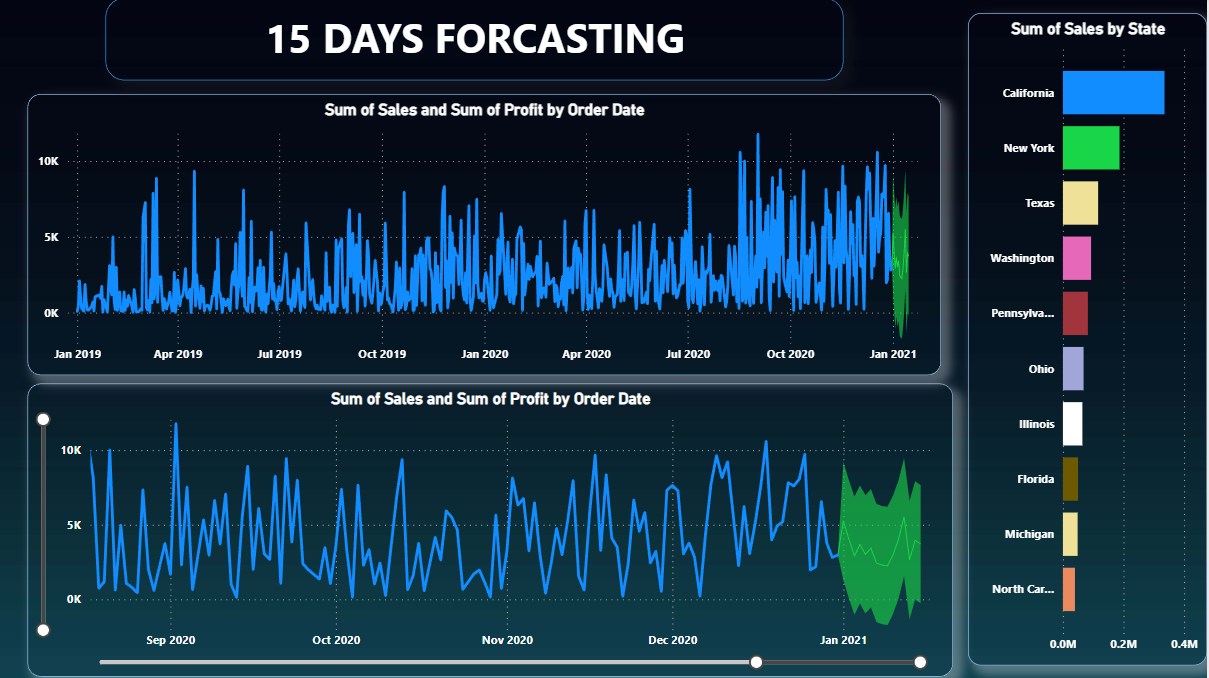

The page's visual inventory and layout, read from the dashboard file:
{"tool":"powerbi","page":{"name":"FORCASTING","canvas":[1280,720],"ordinal":1},"visuals":[{"type":"lineChart","fields":{"Y":["Sum(SuperStore_Sales_Dataset.Sales)"],"Category":["SuperStore_Sales_Dataset.Order Date"]},"box":[30.4,408.9,980.4,310.7],"z":0},{"type":"lineChart","fields":{"Y":["Sum(SuperStore_Sales_Dataset.Sales)"],"Category":["SuperStore_Sales_Dataset.Order Date"]},"box":[30.4,101.8,967.9,298.2],"z":1},{"type":"clusteredBarChart","fields":{"Y":["Sum(SuperStore_Sales_Dataset.Sales)"],"Category":["SuperStore_Sales_Dataset.State"]},"box":[1026.8,16.1,253.6,691.1],"z":2},{"type":"textbox","box":[112.5,0,782.1,87.5],"z":3}]}

Visuals, with their boxes in screenshot pixels (x1, y1, x2, y2), scaled from the page's 1280x720 canvas onto the 1209x678 screenshot:
lineChart - Sum(SuperStore_Sales_Dataset.Sales) x SuperStore_Sales_Dataset.Order Date: (x1=29, y1=385, x2=955, y2=677)
lineChart - Sum(SuperStore_Sales_Dataset.Sales) x SuperStore_Sales_Dataset.Order Date: (x1=29, y1=96, x2=943, y2=377)
clusteredBarChart - Sum(SuperStore_Sales_Dataset.Sales) x SuperStore_Sales_Dataset.State: (x1=970, y1=15, x2=1208, y2=666)
textbox: (x1=106, y1=0, x2=845, y2=82)
